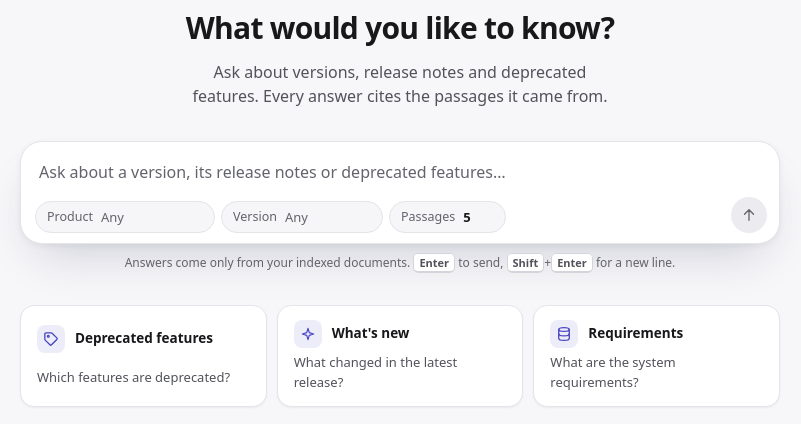
Test: ChatPage: asking › offers example questions that fill the composer without sending
What coordinates should you click on to do the following:
click the button "Deprecated features Which features are deprecated?"
I would click on:
 (143, 356)
Its box is [20, 305, 267, 407].
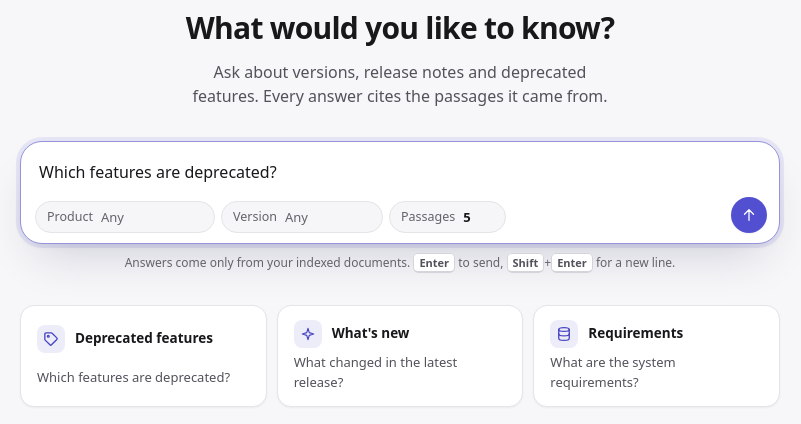
Now the text box named "Question" holds "Which features are deprecated?", box [35, 156, 767, 189]
